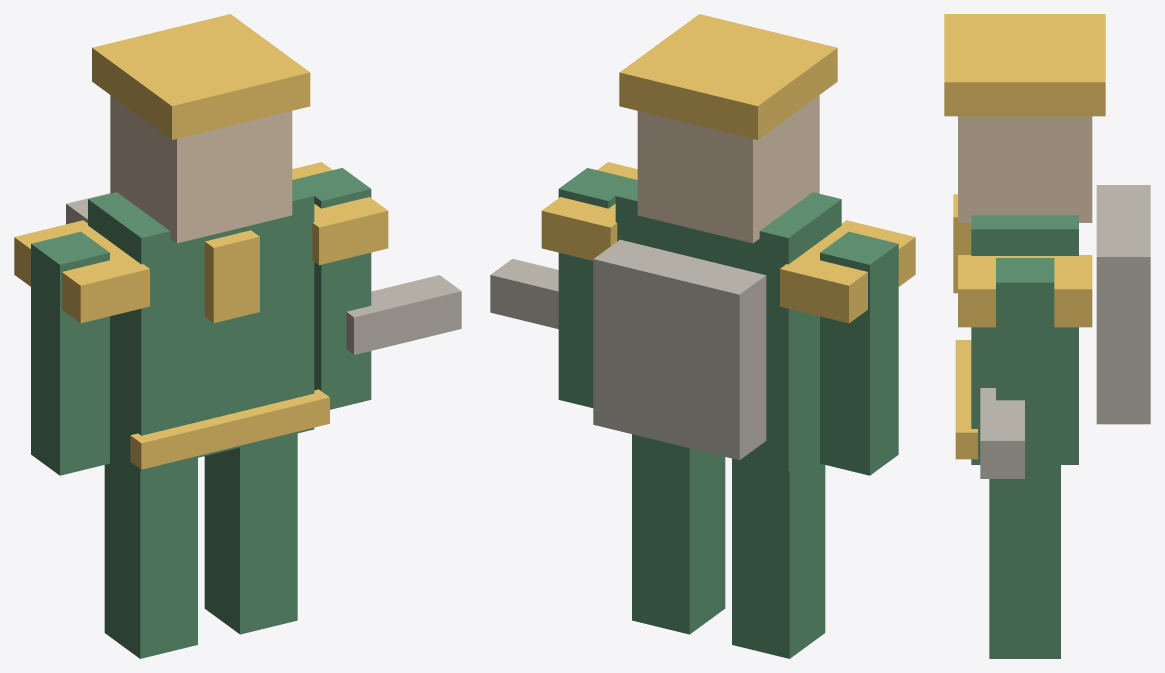
The model's file is 18_lyric_dubwater_archivist_near_summit.glb.
3 views of the same model, side by side, from view 1: azimuth 30°, elevation 25°; view 2: azimuth 150°, elevation 25°; view 3: azimuth 270°, elevation 25° (orthographic).
Parts seen in each view (by area): view 1: Lyric Dubwater, Archivist near Summit; view 2: Lyric Dubwater, Archivist near Summit; view 3: Lyric Dubwater, Archivist near Summit.
Boxes of the visible parts, x1,y1,x2,y2 form: Lyric Dubwater, Archivist near Summit: (14, 14, 461, 658); Lyric Dubwater, Archivist near Summit: (490, 14, 915, 658); Lyric Dubwater, Archivist near Summit: (944, 14, 1150, 658).
Bounding box in the file's own units: 1.12 × 1.54 × 0.5039.
